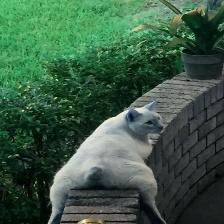kedo: (50, 101, 165, 224)
